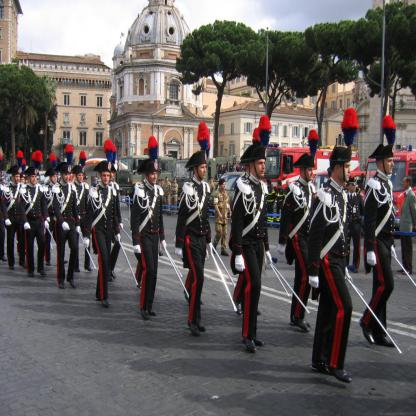face: (337, 158, 352, 182), (254, 157, 266, 178), (383, 155, 395, 174), (198, 162, 208, 179), (247, 158, 257, 174), (304, 166, 314, 180), (149, 171, 158, 184), (102, 172, 110, 185), (63, 171, 71, 183), (30, 173, 38, 184), (77, 173, 84, 182), (403, 179, 409, 189), (350, 183, 356, 192), (14, 174, 20, 182), (52, 175, 57, 183), (222, 182, 227, 190), (109, 173, 114, 180), (21, 178, 25, 185), (287, 181, 290, 187), (112, 178, 115, 183), (85, 179, 88, 183), (174, 180, 177, 184), (277, 183, 280, 187), (167, 179, 169, 182), (211, 180, 213, 183)
